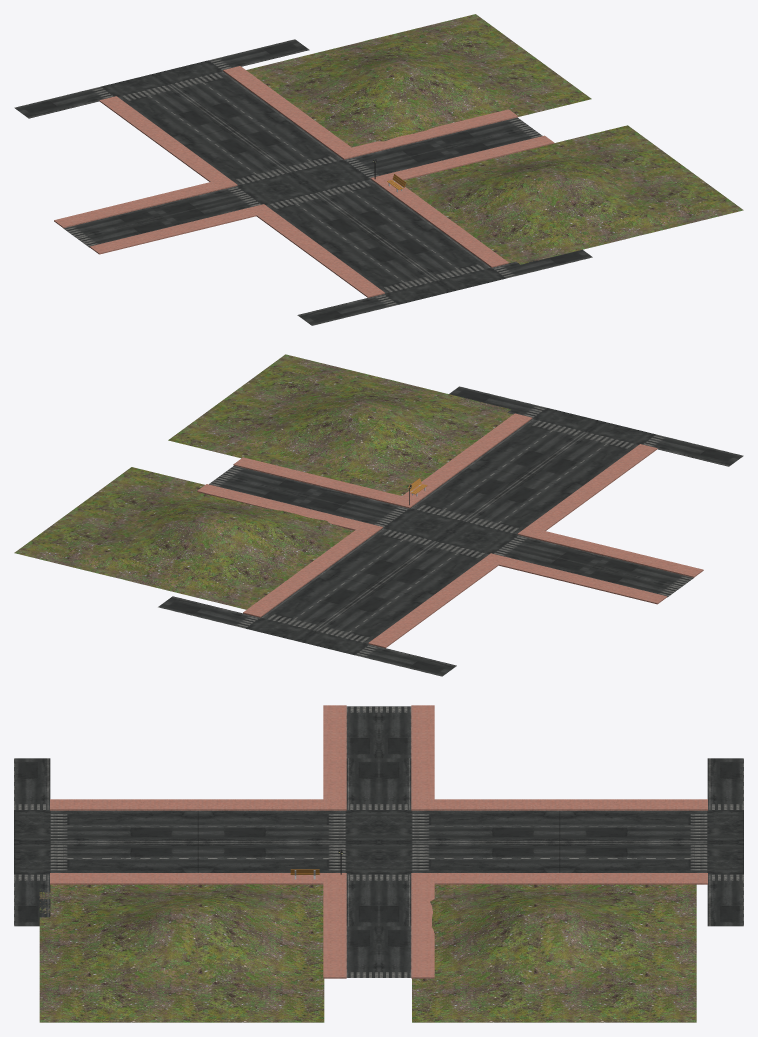
3 views of the same model, one above another, from view 1: azimuth 30°, elevation 25°; view 2: azimuth 150°, elevation 25°; view 3: azimuth 270°, elevation 25° (orthographic). The views are drawn at different scales.
Visible parts, largest first — view 1: Plane002_Grass Ground_0, Plane003_Road Texture_0, Box004_Brick_floor_0; view 2: Plane002_Grass Ground_0, Plane003_Road Texture_0, Box004_Brick_floor_0; view 3: Plane002_Grass Ground_0, Plane003_Road Texture_0, Box004_Brick_floor_0.
Part boxes in pixels (bbox=[...]): Plane002_Grass Ground_0: bbox=[246, 14, 743, 264]; Plane003_Road Texture_0: bbox=[14, 39, 592, 325]; Box004_Brick_floor_0: bbox=[54, 66, 554, 297]; Plane002_Grass Ground_0: bbox=[14, 354, 512, 609]; Plane003_Road Texture_0: bbox=[158, 386, 743, 676]; Box004_Brick_floor_0: bbox=[197, 413, 703, 648]; Plane002_Grass Ground_0: bbox=[39, 884, 696, 1022]; Plane003_Road Texture_0: bbox=[14, 706, 743, 977]; Box004_Brick_floor_0: bbox=[50, 705, 707, 978].
Size of the model in its own units: 7852 by 357 by 7661.
